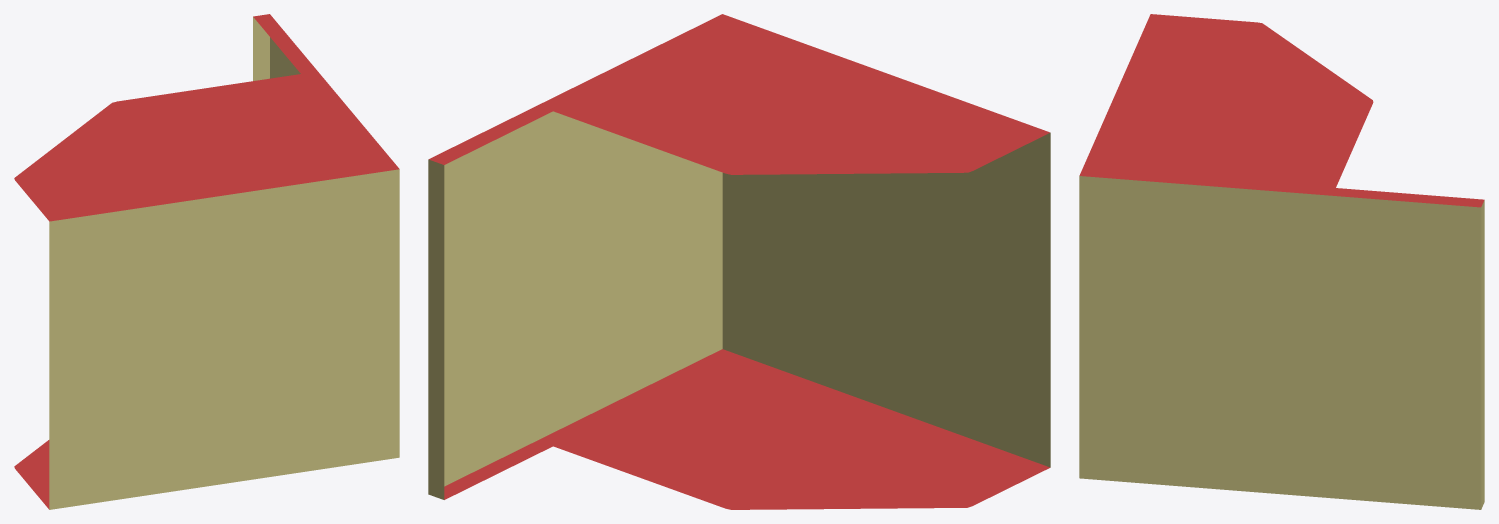
3 renders of one model, left to right at view 1: azimuth 30°, elevation 25°; view 2: azimuth 150°, elevation 25°; view 3: azimuth 270°, elevation 25°, orthographic. The views are drawn at different scales.
Bounding box in the file's own units: 8.34 × 7.38 × 6.08.
